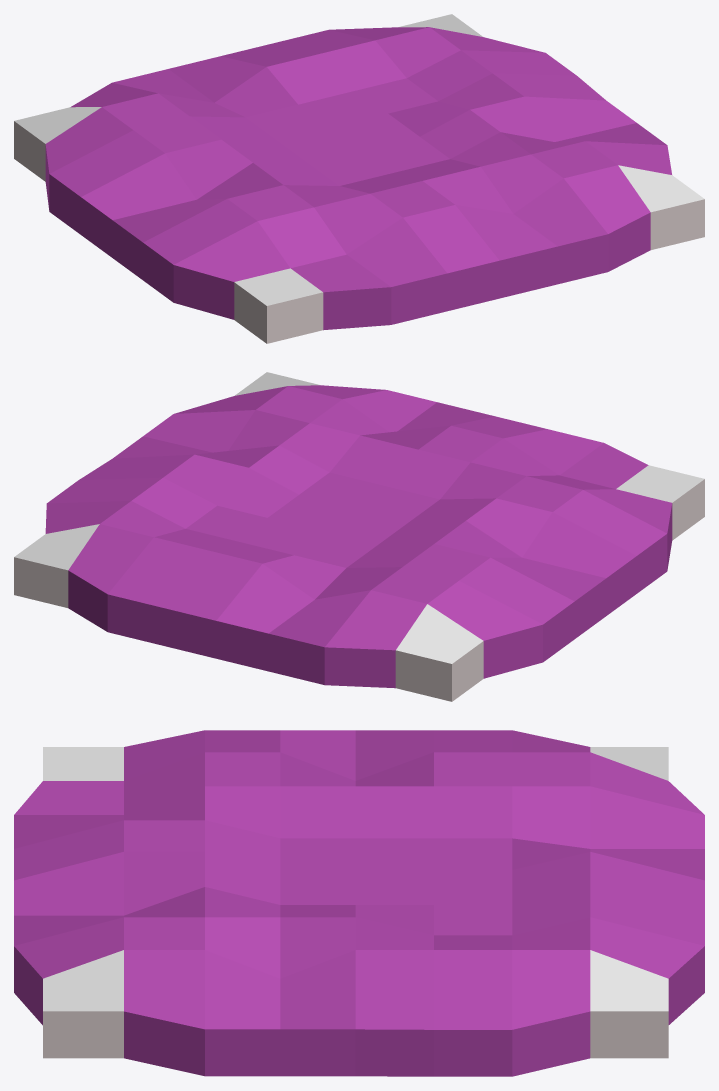
Rendered from trap.gltf.
3 views of the same model, one above another, from view 1: azimuth 30°, elevation 25°; view 2: azimuth 150°, elevation 25°; view 3: azimuth 270°, elevation 25° (orthographic). The views are drawn at different scales.
Parts seen in each view (by area): view 1: Cube; view 2: Cube; view 3: Cube.
Boxes of the visible parts, x1,y1,x2,y2 form: Cube: (14,14,704,343); Cube: (14,372,704,701); Cube: (14,730,704,1076).
Size of the model in its own units: 2.13 by 0.2542 by 2.07.
